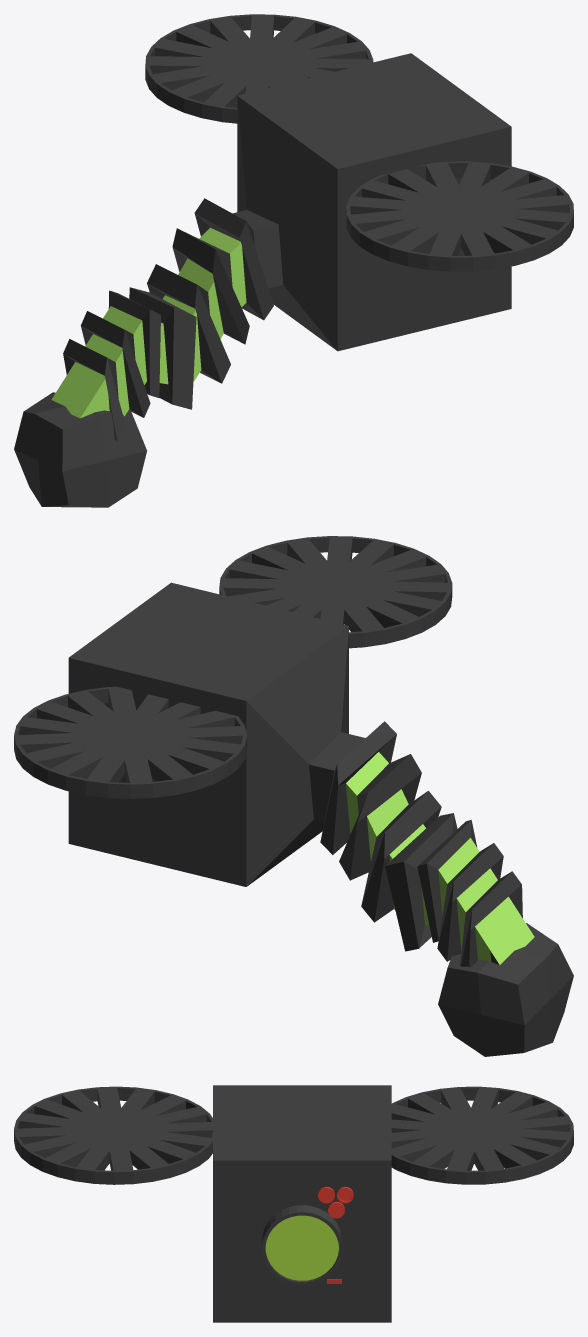
Rendered from drone2.glb.
3 views of the same model, one above another, from view 1: azimuth 30°, elevation 25°; view 2: azimuth 150°, elevation 25°; view 3: azimuth 270°, elevation 25° (orthographic). The views are drawn at different scales.
Parts seen in each view (by area): view 1: Cube, Cylinder.016, Cylinder.005; view 2: Cube, Cylinder.005, Cylinder.016; view 3: Cube, Cylinder.016, Cylinder.005, Cylinder.002.
Part boxes in pixels (bbox=[...]): Cube: bbox=[14, 53, 511, 507]; Cylinder.016: bbox=[346, 161, 573, 271]; Cylinder.005: bbox=[145, 14, 373, 123]; Cube: bbox=[68, 582, 573, 1056]; Cylinder.005: bbox=[14, 686, 247, 798]; Cylinder.016: bbox=[219, 536, 452, 648]; Cube: bbox=[213, 1085, 391, 1322]; Cylinder.016: bbox=[14, 1086, 212, 1184]; Cylinder.005: bbox=[391, 1086, 573, 1184]; Cylinder.002: bbox=[262, 1205, 342, 1285].
Bounding box in the file's own units: 5.05 × 3.5 × 6.27.
